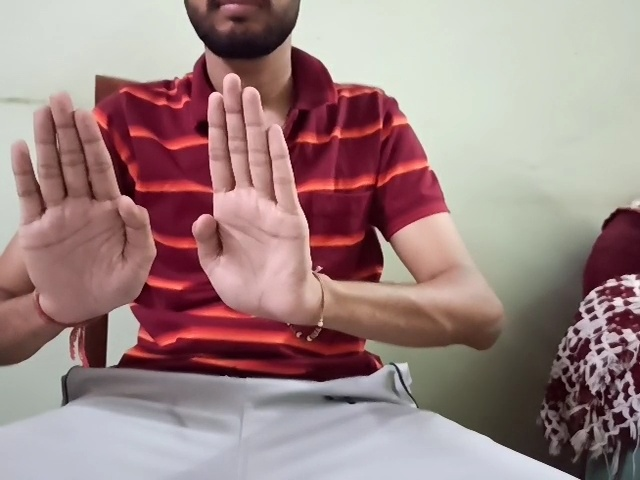B: (191, 73, 312, 327)
